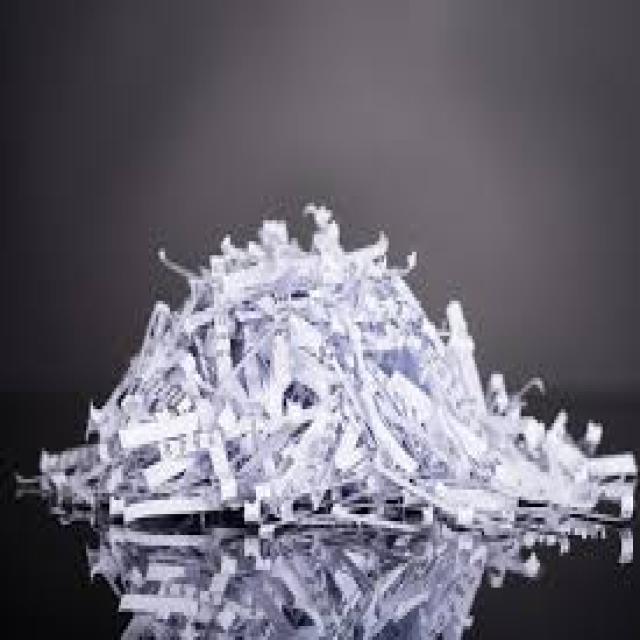paper: (12, 196, 638, 636)
